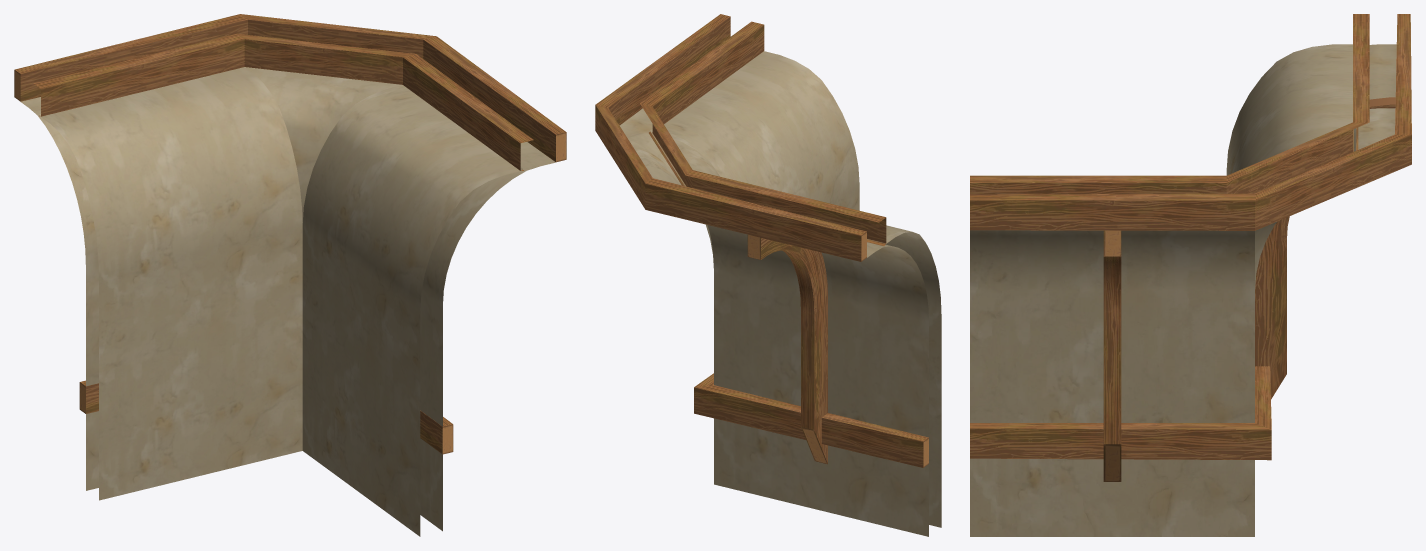
The model's file is Overhang_Plaster_Corner.glb.
The picture shows the model from 3 angles, left to right: view 1: azimuth 30°, elevation 25°; view 2: azimuth 150°, elevation 25°; view 3: azimuth 270°, elevation 25°; orthographic projection. The views are drawn at different scales.
Visible parts, largest first — view 1: Overhang_Plaster_Corner; view 2: Overhang_Plaster_Corner; view 3: Overhang_Plaster_Corner.
Boxes of the visible parts, left/top/right/bottom form: Overhang_Plaster_Corner: left=14, top=14, right=566, bottom=536; Overhang_Plaster_Corner: left=595, top=14, right=941, bottom=536; Overhang_Plaster_Corner: left=970, top=14, right=1411, bottom=536.
Bounding box in the file's own units: 3.1 × 3.12 × 3.1.
2 materials, 2 textured.
